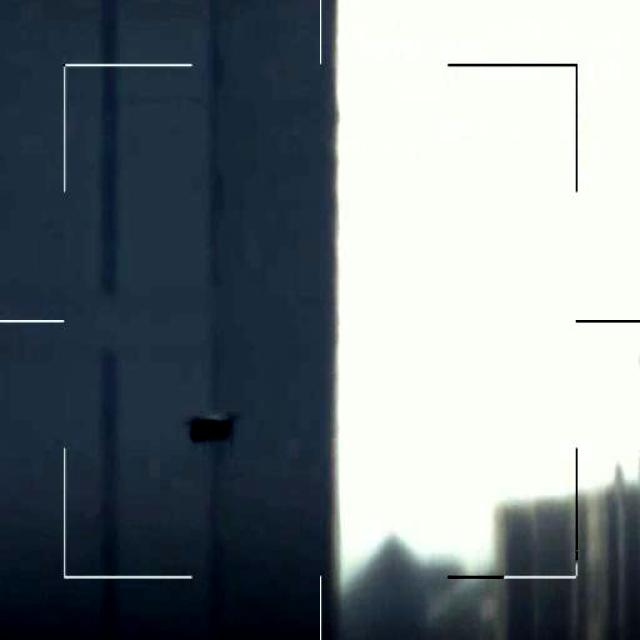bird: (191, 408, 242, 441)
